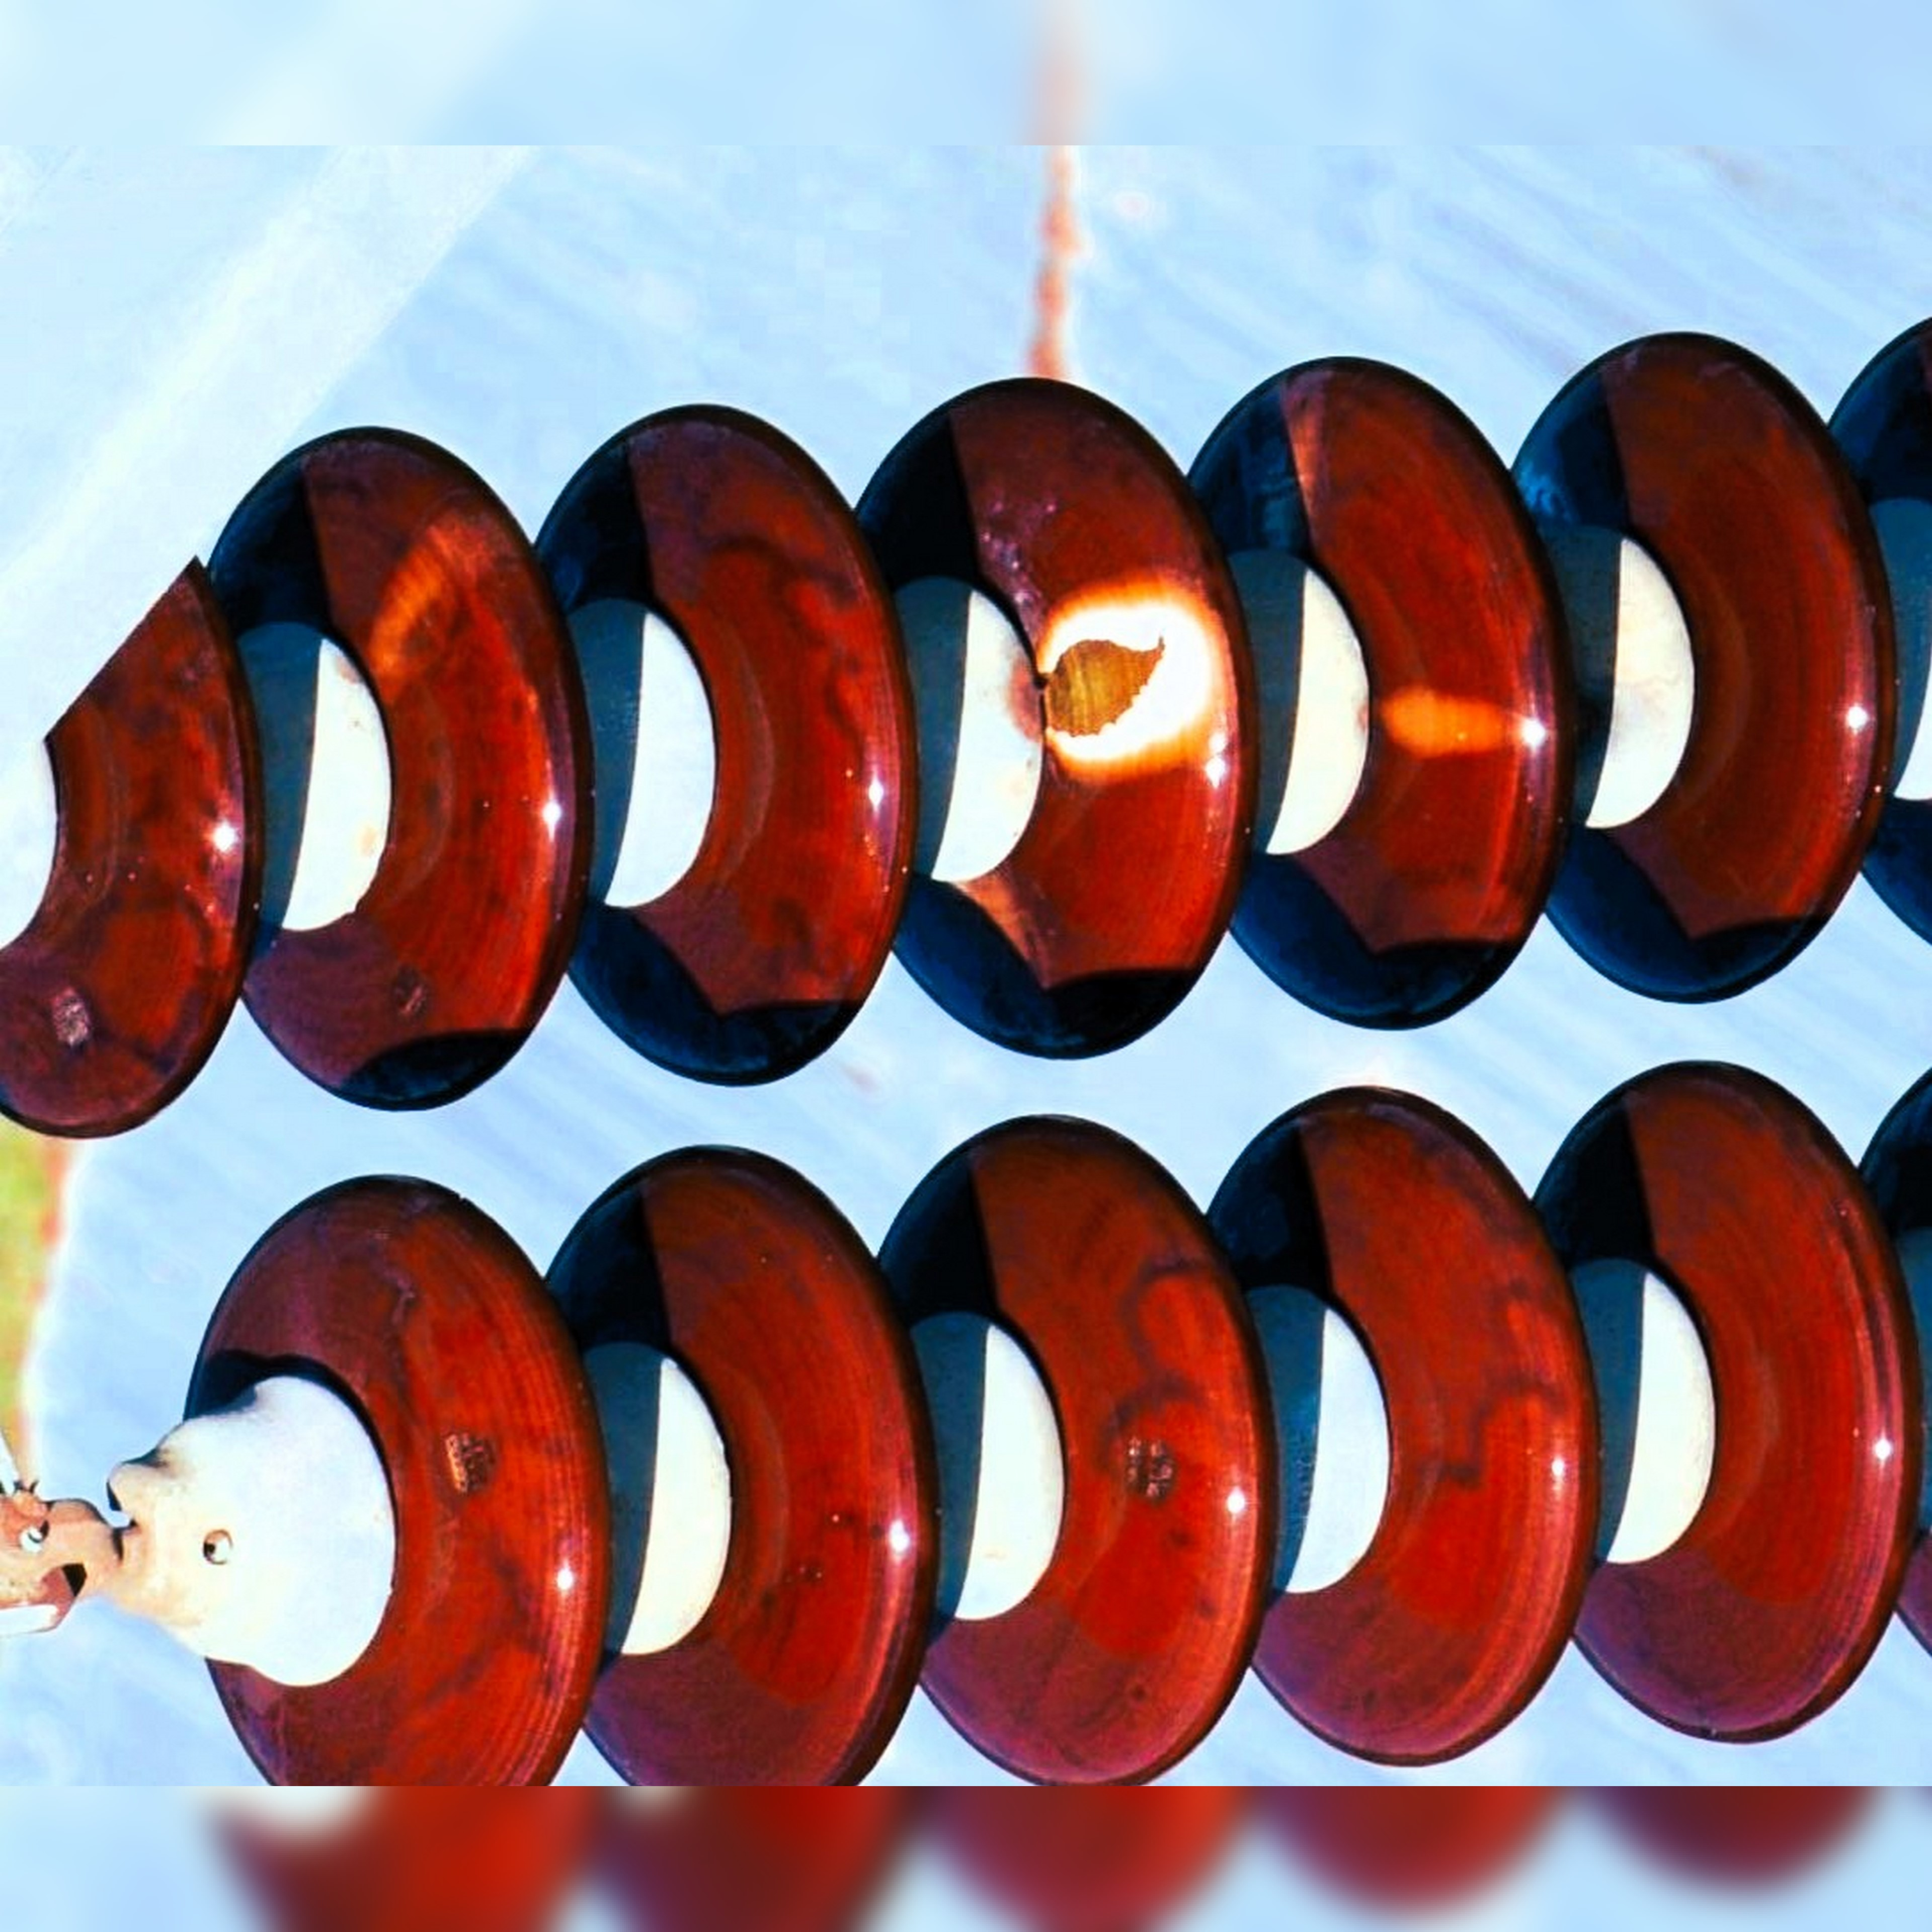Insulator flashover: (842, 368, 1261, 1067)
